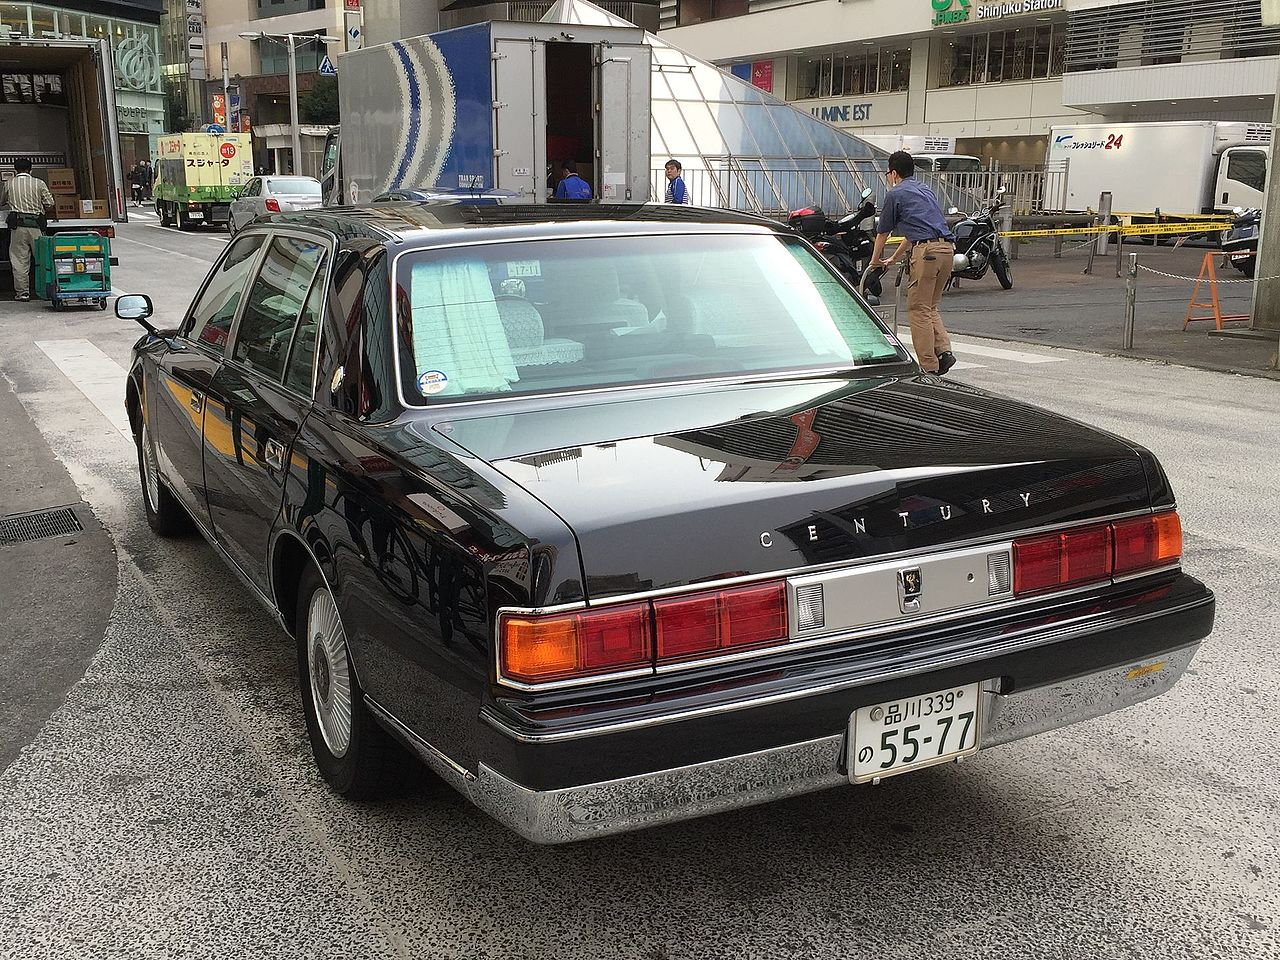plate: (847, 678, 984, 786)
